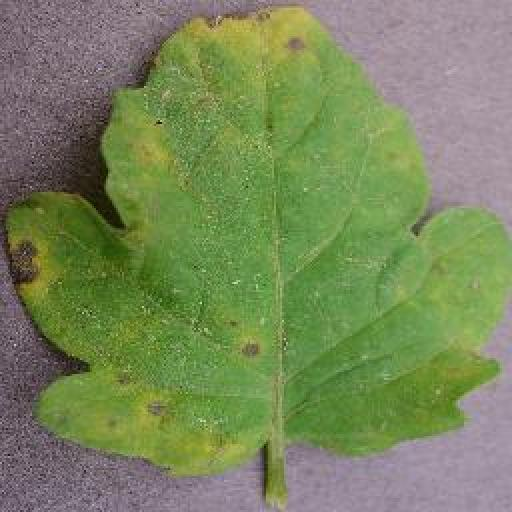Septoria: (2, 11, 512, 480)
